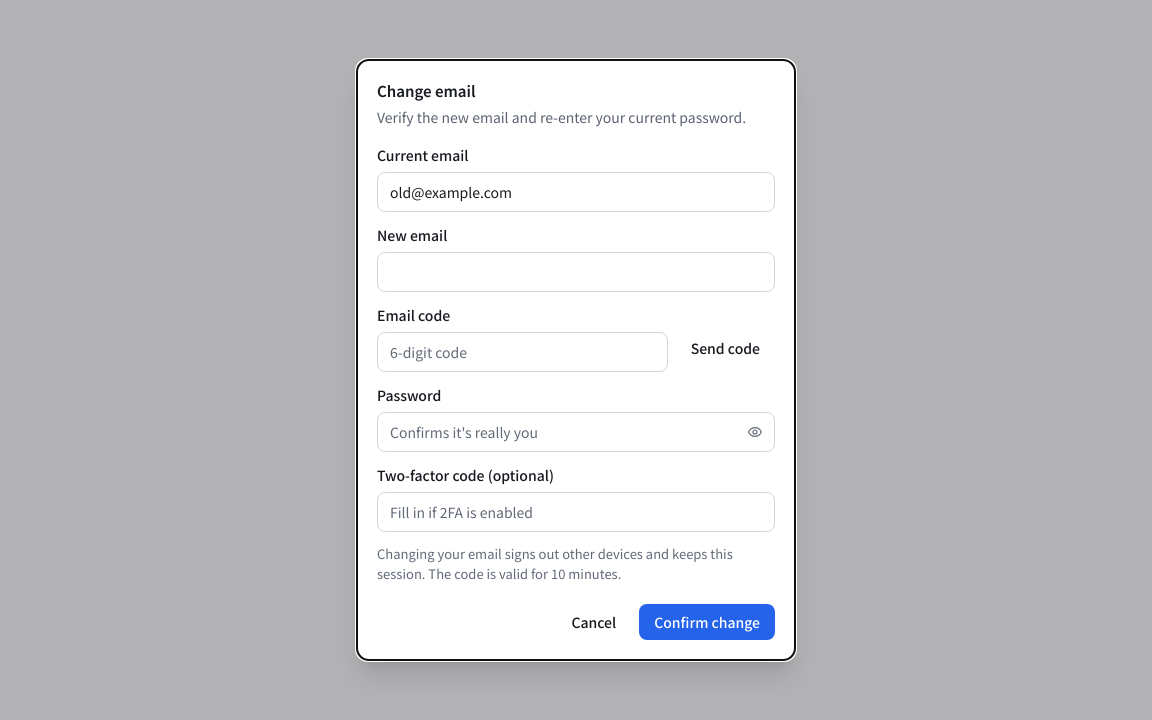
Scenario: AccountEmailDialog › keeps the dialog open and reports an inline error when the change fails
Step 1. Type "new@example.com" into the field labelled "New email" → (576, 272), box [377,252,775,292]
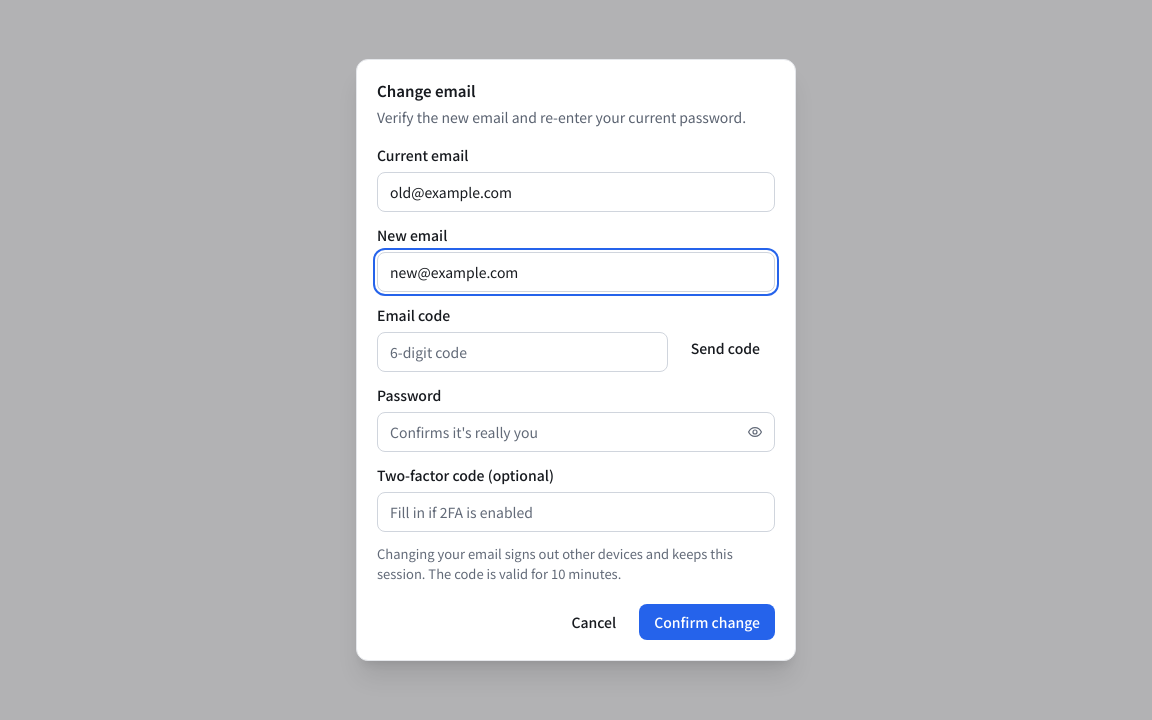
Step 2. Click the button "Send code" → (725, 348), box [676,330,775,366]
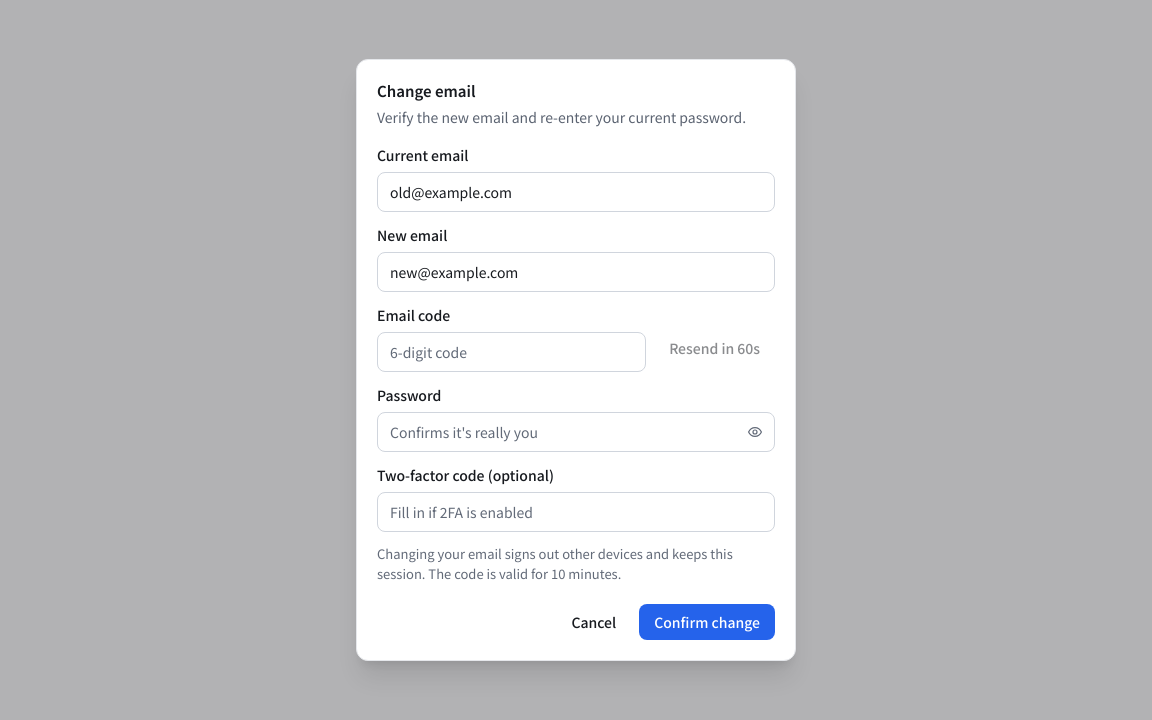
Step 3. Type "123456" into the field labelled "Email code" → (512, 352), box [377,332,646,372]
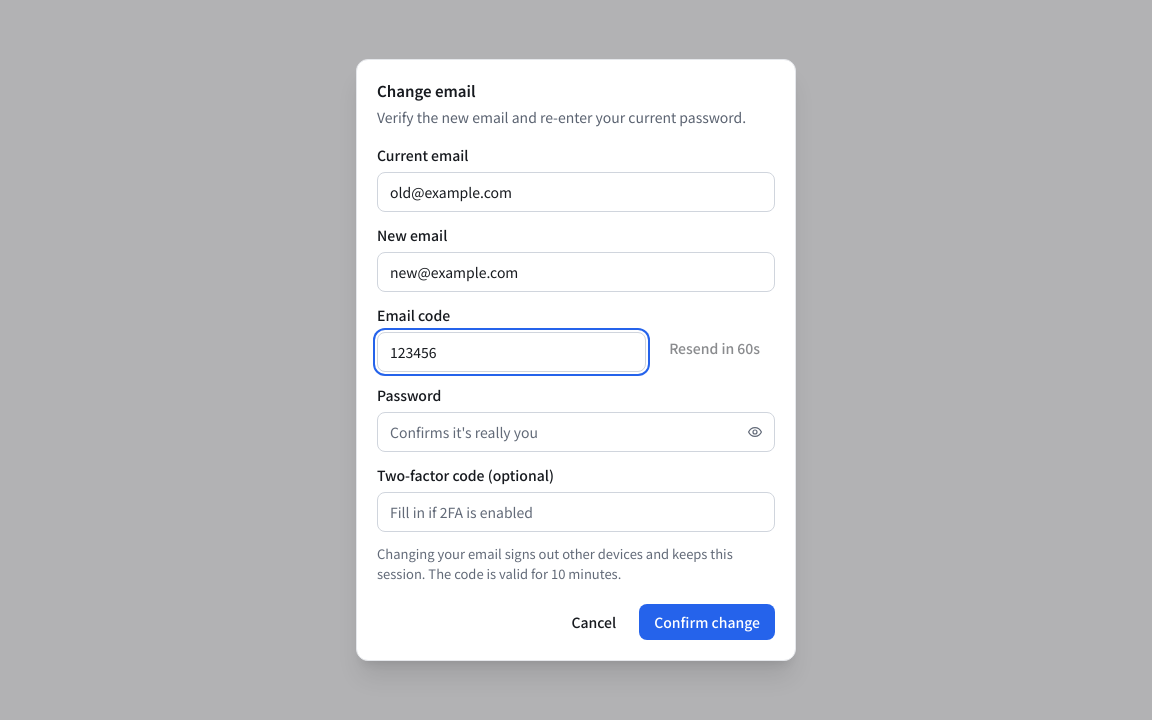
Step 4. Type "wrong-pass" into the password field labelled "Password" → (576, 432), box [377,412,775,452]
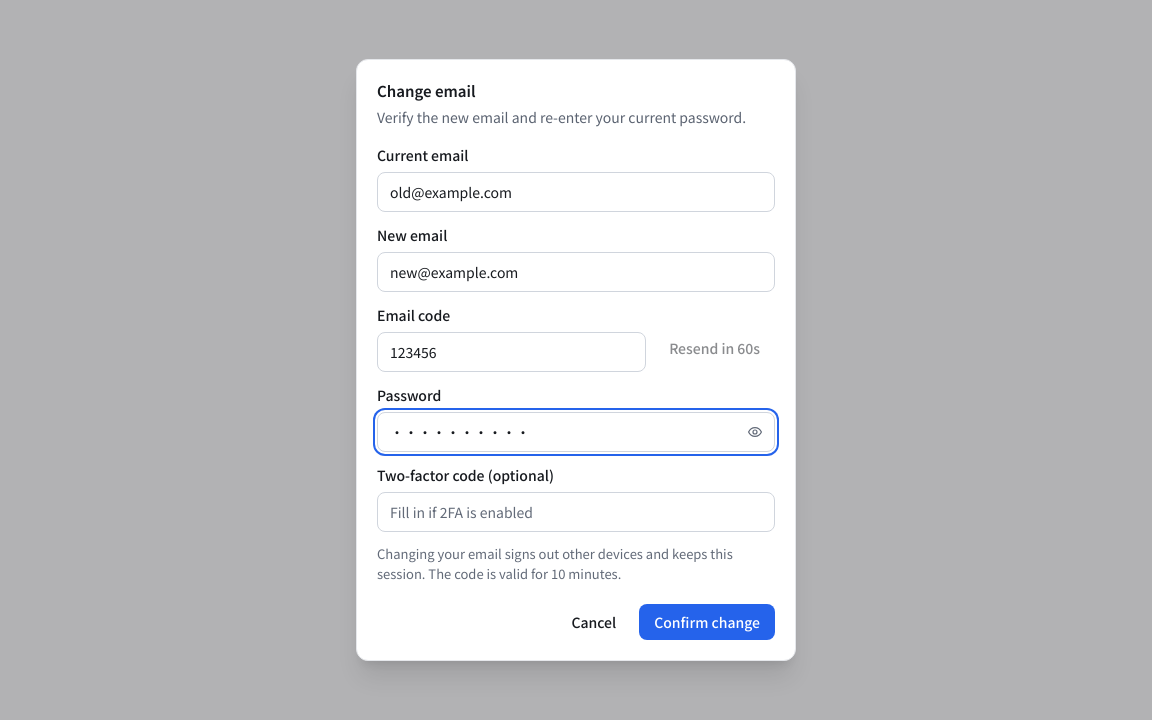
Step 5. Click the button "Confirm change" → (707, 622), box [639,604,775,640]
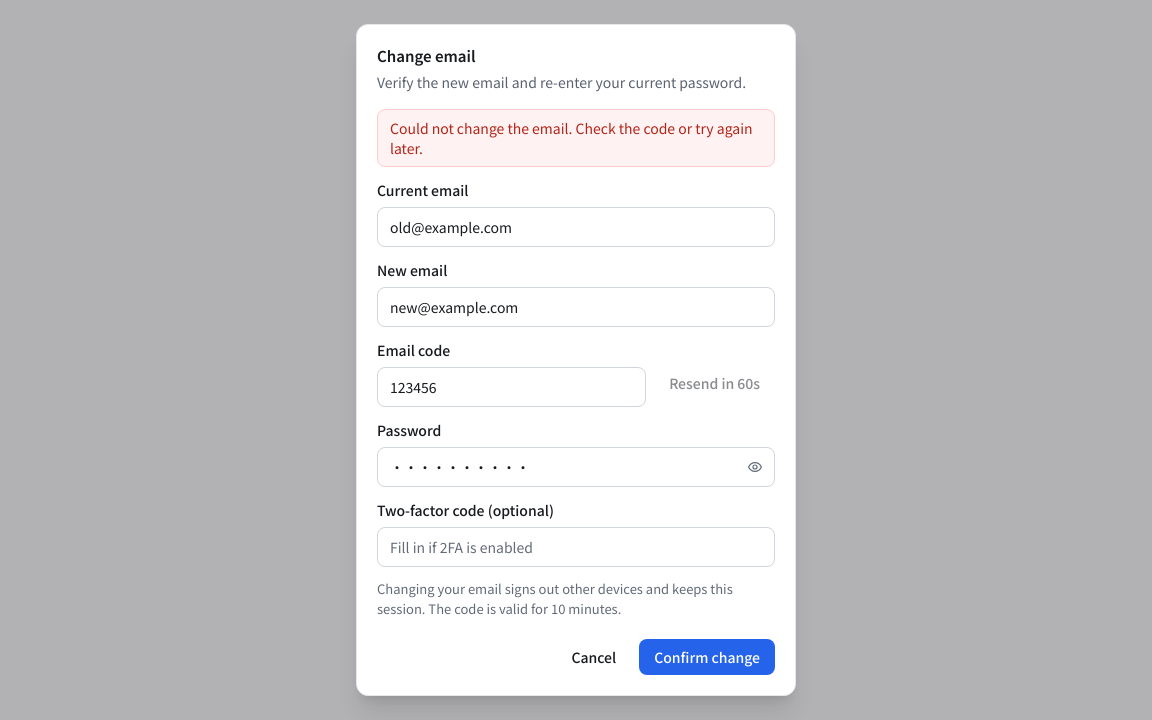
Check: the dialog is shown, box [356,24,796,696]
Check: the text "Could not change the email. Check the code or try again later." is shown, box [377,109,775,167]
